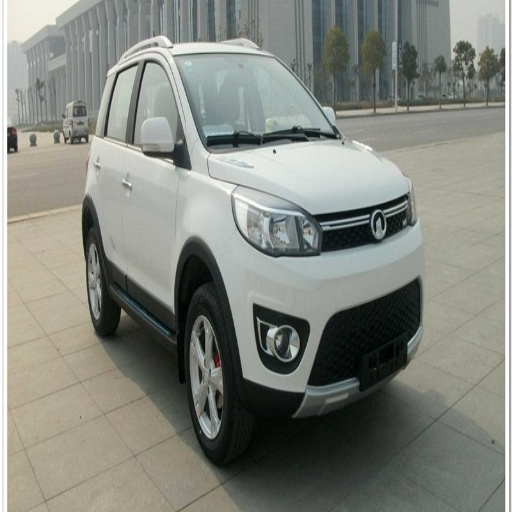front_bumper: (220, 194, 425, 411)
front_right_door: (126, 50, 185, 314)
front_right_light: (233, 191, 324, 255)
